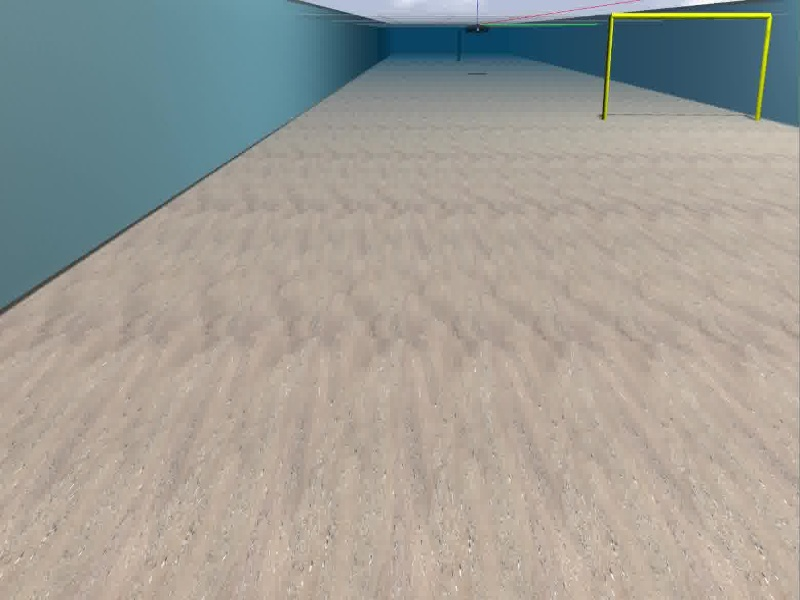gate: (601, 9, 773, 122)
